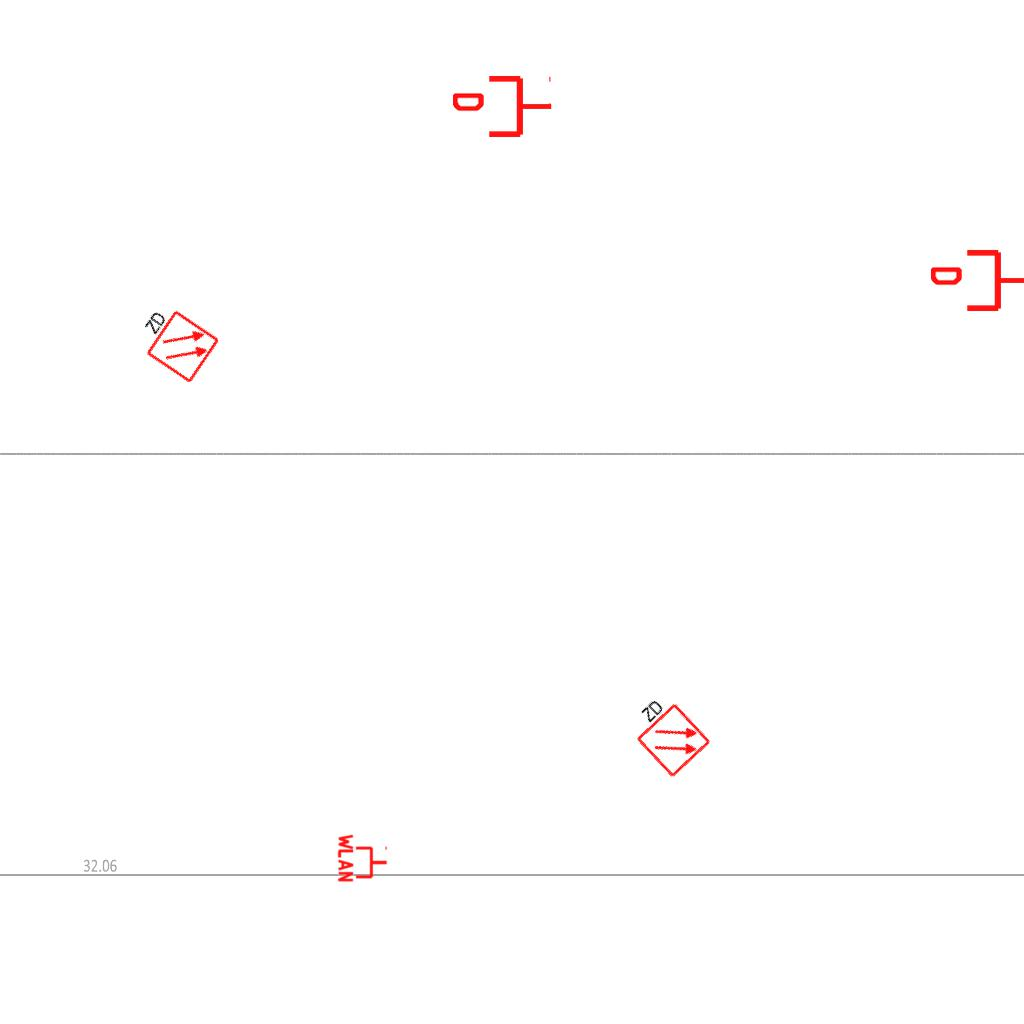Datenanschluss_einfach: (453, 72, 553, 141), (931, 246, 1024, 315)
WLAN: (337, 832, 389, 884)
ZD_Melder_in_Zwischendecke_mit_Revisionsoeffnung_mind_40_x_40_cm: (620, 687, 713, 781), (127, 297, 222, 387)
